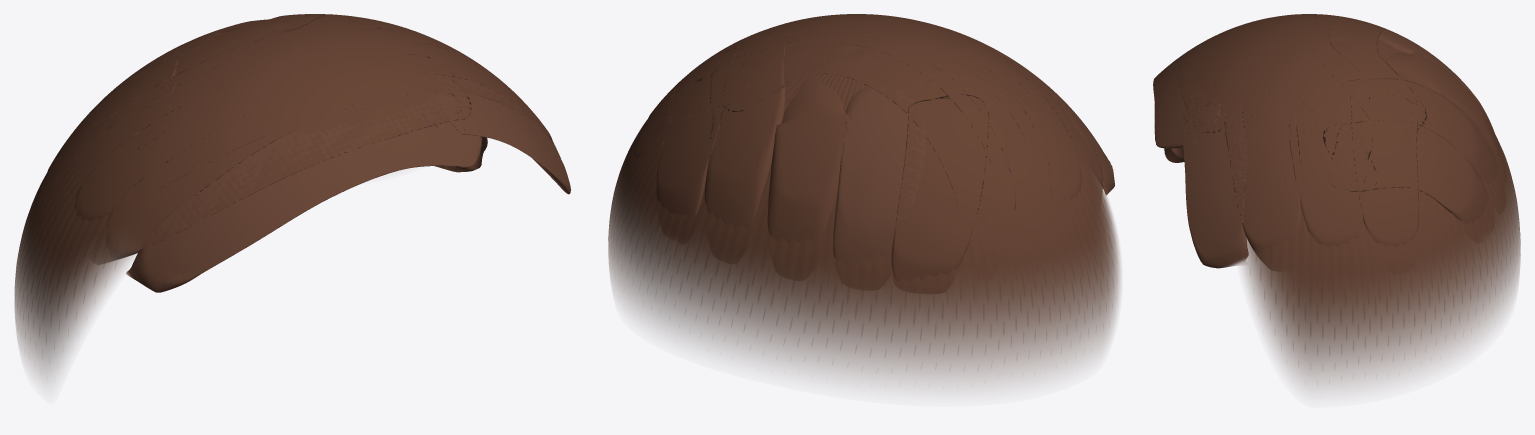
Rendered from Masculine-taper-cap257-hair.glb.
The picture shows the model from 3 angles, left to right: view 1: azimuth 30°, elevation 25°; view 2: azimuth 150°, elevation 25°; view 3: azimuth 270°, elevation 25°; orthographic projection. The views are drawn at different scales.
Parts seen in each view (by area): view 1: 226 hair / Hair257 / smooth side fade, 226 hair / Hair252 / sculpted locks, 226 hair / Hair252 / gentle tonal variation, 226 hair / Hair257 / directional fade marks; view 2: 226 hair / Hair257 / smooth side fade, 226 hair / Hair252 / sculpted locks, 226 hair / Hair252 / gentle tonal variation, 226 hair / Hair257 / directional fade marks; view 3: 226 hair / Hair257 / smooth side fade, 226 hair / Hair252 / sculpted locks, 226 hair / Hair252 / gentle tonal variation, 226 hair / Hair257 / directional fade marks.
Part boxes in pixels (x1,y1,x2,y2): 226 hair / Hair257 / smooth side fade: (14,20,557,380); 226 hair / Hair252 / sculpted locks: (47,14,553,263); 226 hair / Hair252 / gentle tonal variation: (105,33,570,292); 226 hair / Hair257 / directional fade marks: (16,105,526,341); 226 hair / Hair257 / smooth side fade: (608,14,1120,385); 226 hair / Hair252 / sculpted locks: (634,14,1103,282); 226 hair / Hair252 / gentle tonal variation: (833,33,1114,264); 226 hair / Hair257 / directional fade marks: (620,133,1112,353); 226 hair / Hair257 / smooth side fade: (1194,14,1520,388); 226 hair / Hair252 / sculpted locks: (1177,14,1500,267); 226 hair / Hair252 / gentle tonal variation: (1153,24,1494,268); 226 hair / Hair257 / directional fade marks: (1256,140,1517,355).
Size of the model in its own units: 0.9723 by 0.584 by 0.7003.
